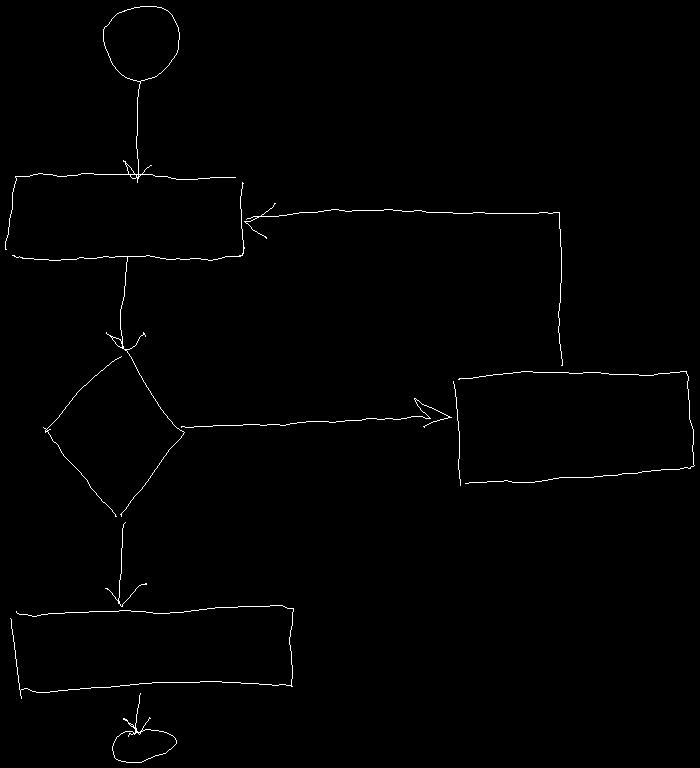arrow: (244, 203, 562, 365), (181, 398, 451, 427), (106, 256, 145, 349), (105, 522, 146, 606), (123, 82, 151, 182), (123, 693, 150, 734)
connection: (103, 6, 179, 81), (112, 729, 176, 762)
decision: (43, 347, 184, 516)
process: (453, 371, 694, 485), (10, 605, 293, 698), (5, 173, 244, 260)
